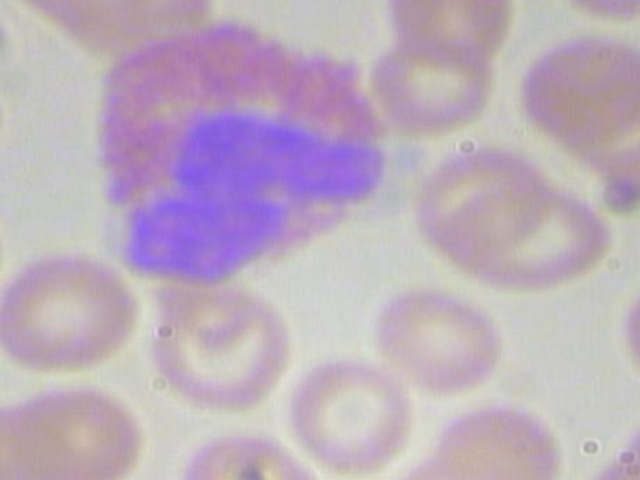RBC: (139, 274, 295, 420), (396, 138, 563, 259), (0, 248, 156, 372), (376, 276, 507, 401), (284, 349, 415, 473), (515, 24, 640, 146), (366, 0, 532, 68), (593, 263, 640, 385), (0, 185, 33, 308), (0, 65, 13, 190)
WBC: (85, 11, 408, 286)
